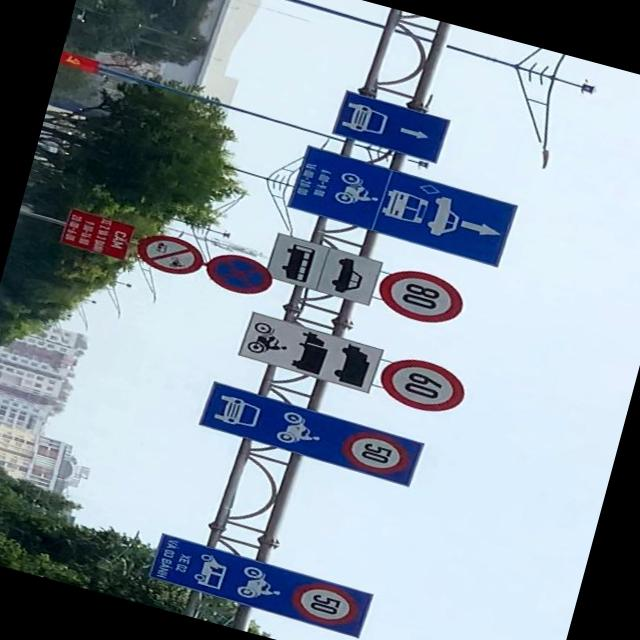P-127: (372, 262, 468, 332), (375, 349, 470, 418)
P-130: (201, 248, 275, 298)
